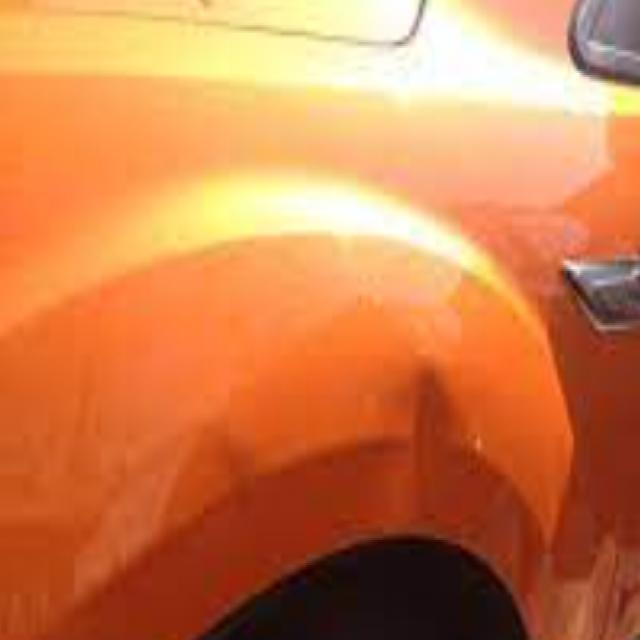dents: (360, 344, 493, 535)
